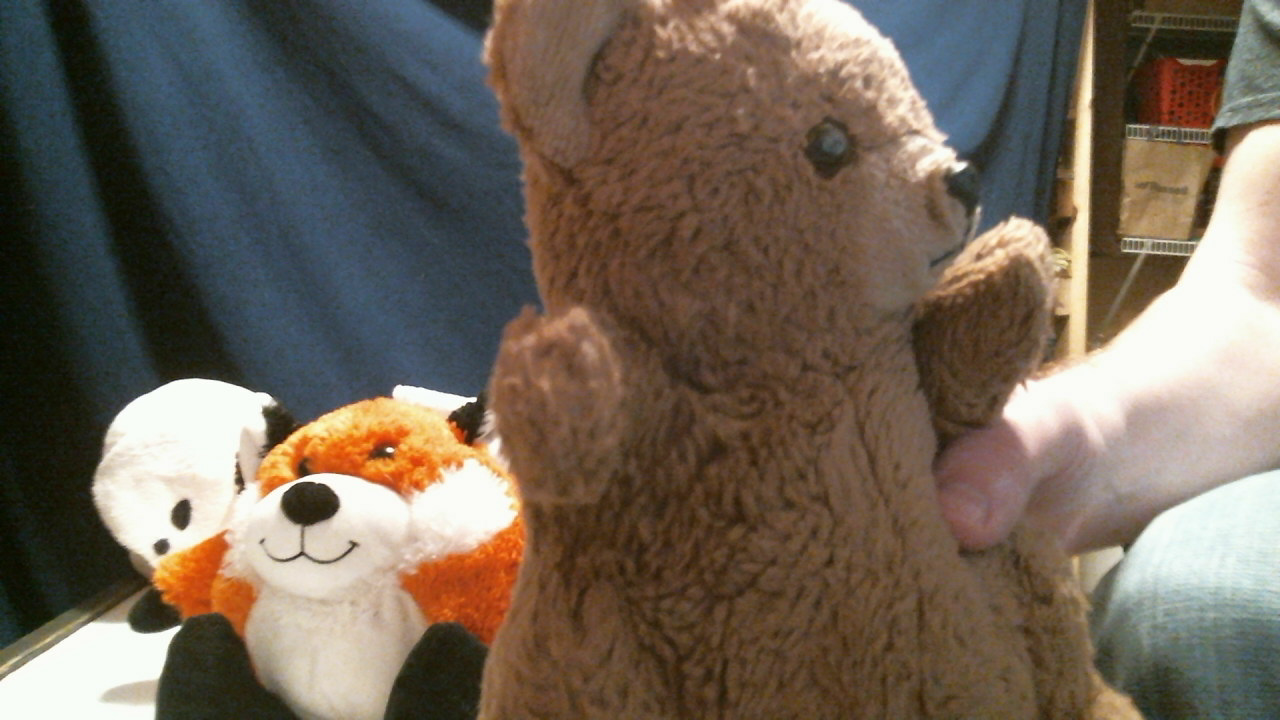Little_Mister_Bear: (797, 112, 983, 284)
